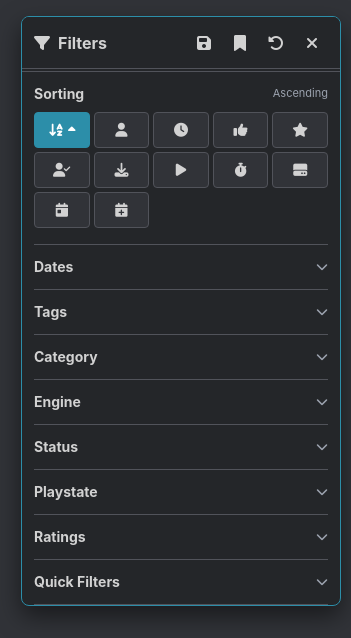
it: SearchSidebar shows library-only quick filters in library mode
(page scrolled)
Click the button "Quick Filters" at (77, 581), box [34, 560, 328, 604]
(page scrolled)
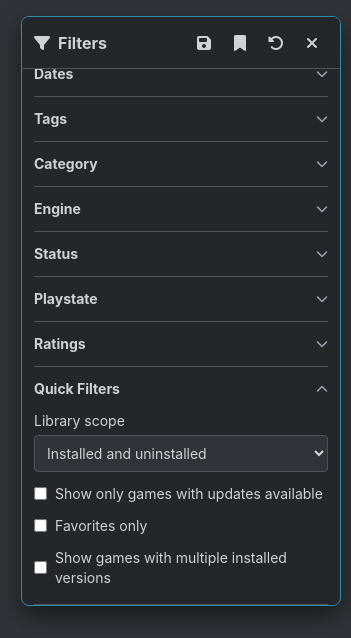
expect the text "Library scope" is shown: met, box [34, 412, 125, 428]
expect the text "Show only games with updates available" is shown: met, box [55, 484, 323, 504]
expect the text "Favorites only" is shown: met, box [55, 516, 147, 536]
